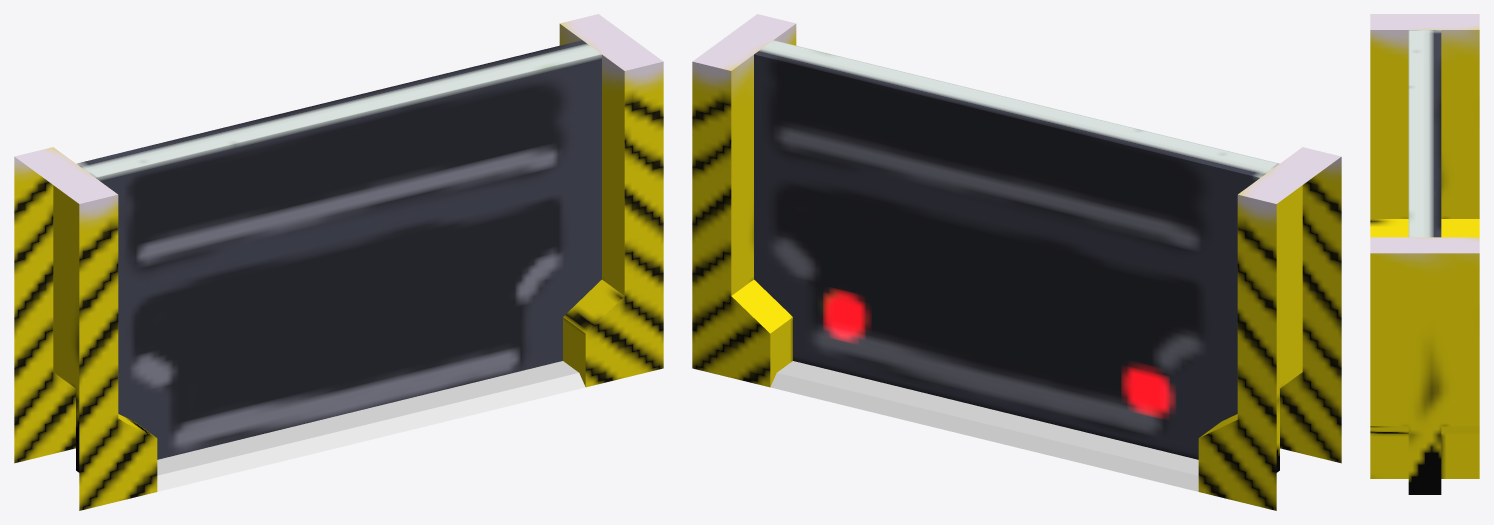
The model's file is Door.fbx.
3 renders of one model, left to right at view 1: azimuth 30°, elevation 25°; view 2: azimuth 150°, elevation 25°; view 3: azimuth 270°, elevation 25°, orthographic. The views are drawn at different scales.
Parts seen in each view (by area): view 1: Door, Base, Guard; view 2: Door, Base, Guard; view 3: Base, Door.
Boxes of the visible parts, <box> form: Door: <box>76,40,601,459</box>; Base: <box>14,14,663,510</box>; Guard: <box>157,361,585,491</box>; Door: <box>754,40,1279,459</box>; Base: <box>692,14,1341,510</box>; Guard: <box>770,361,1198,491</box>; Base: <box>1370,14,1479,494</box>; Door: <box>1408,30,1441,237</box>.
Size of the model in its own units: 299 by 150 by 57.6.
Materials: 1 (1 with a texture image).
